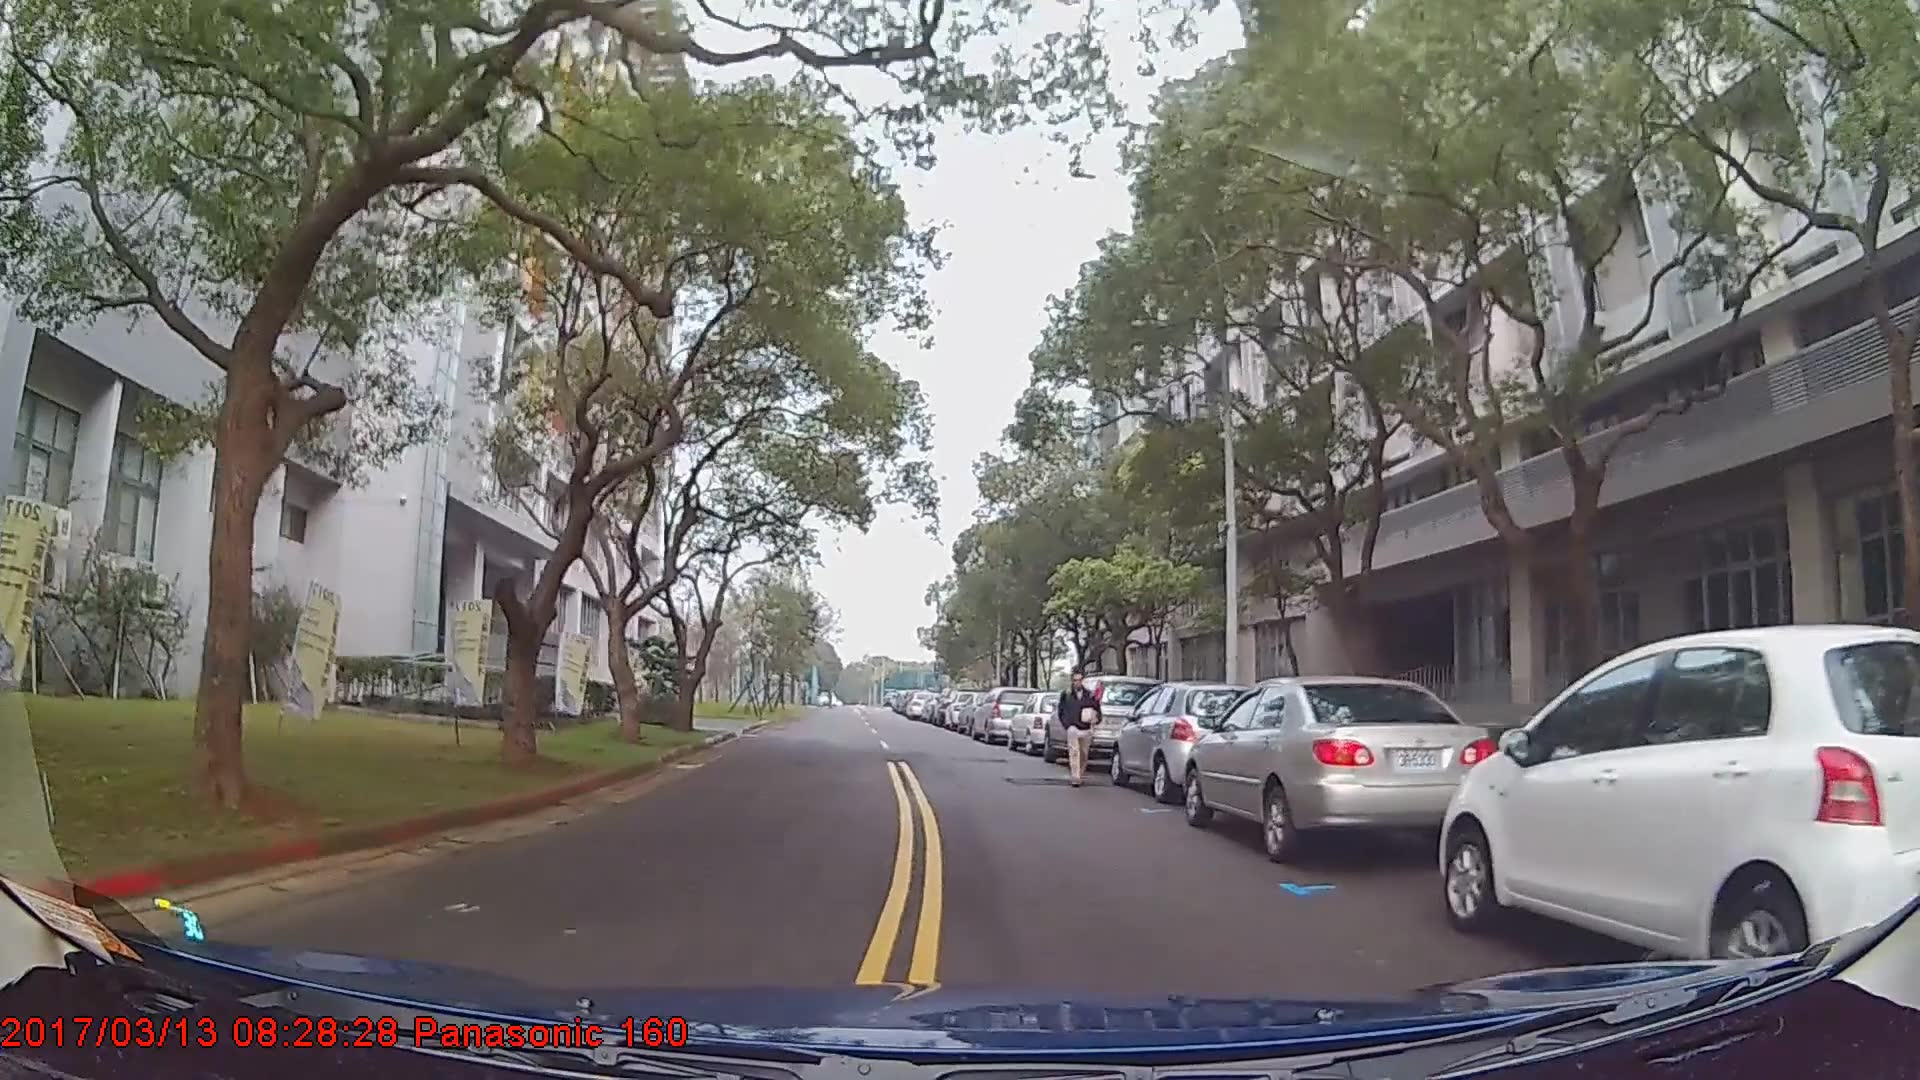pedestrian: (1059, 674, 1103, 790)
vehicle: (1439, 621, 1918, 982), (1182, 672, 1495, 864), (1111, 681, 1270, 806), (1042, 675, 1166, 774), (1006, 691, 1078, 757), (970, 685, 1042, 744)
